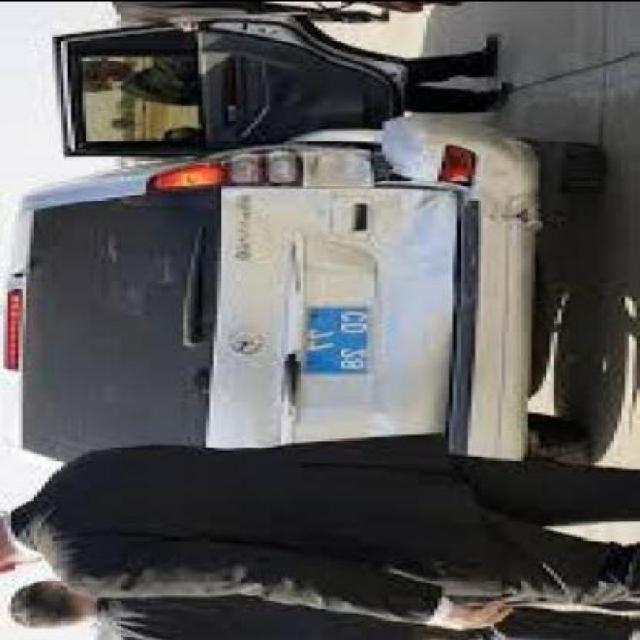damage: (298, 116, 550, 248)
